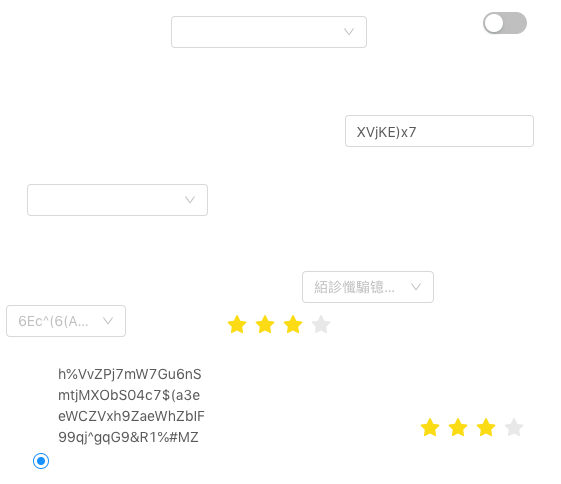Input: (345, 115, 534, 147)
Radio: (33, 450, 49, 470)
Rate: (420, 411, 540, 443), (227, 308, 347, 340)
Select: (171, 16, 367, 48), (27, 184, 208, 216), (302, 271, 434, 303), (6, 305, 126, 337)
Switch: (483, 11, 527, 35)
Text: (58, 363, 206, 445)
